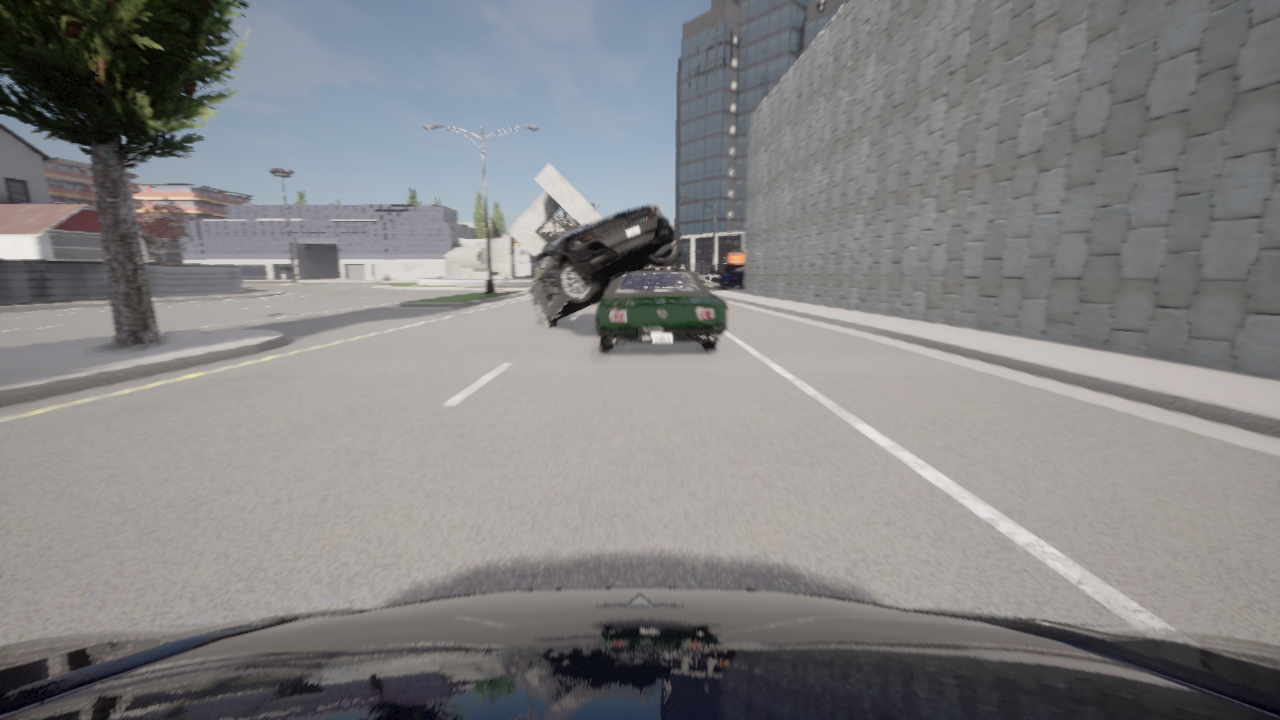cyclist: (0, 588, 1279, 719), (529, 204, 681, 328), (596, 271, 728, 350), (719, 270, 743, 288), (696, 271, 720, 282), (724, 253, 743, 265), (725, 264, 743, 273), (648, 268, 664, 270), (643, 269, 648, 270)
